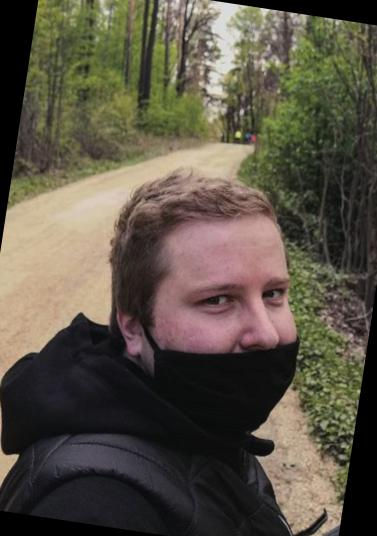mask_weared_incorrect: (131, 230, 320, 417)
